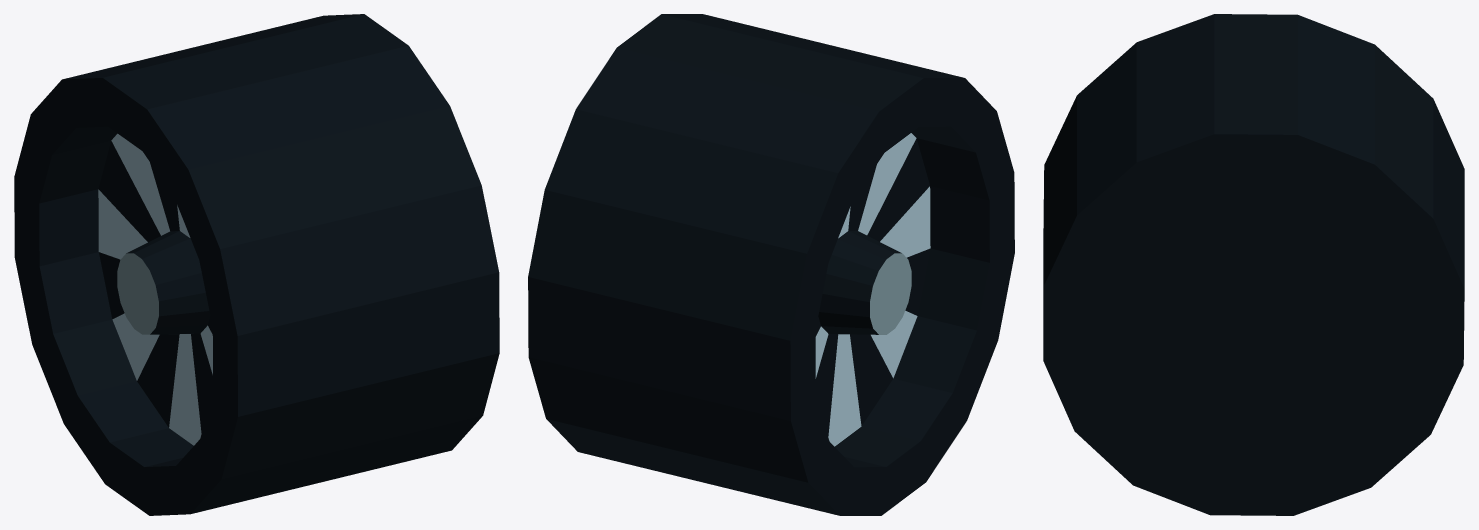
File: car.fbx
The picture shows the model from 3 angles, left to right: view 1: azimuth 30°, elevation 25°; view 2: azimuth 150°, elevation 25°; view 3: azimuth 270°, elevation 25°; orthographic projection. The views are drawn at different scales.
Parts seen in each view (by area): view 1: Car; view 2: Car; view 3: Car.
Part boxes in pixels (x1,y1,x2,y2): Car: (14,14,499,515); Car: (528,14,1014,515); Car: (1043,14,1464,515).
Bounding box in the file's own units: 108 × 159 × 159.
